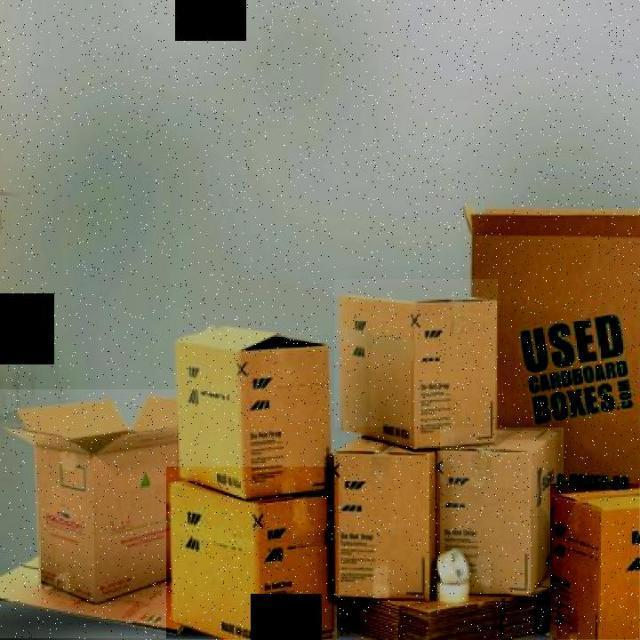box: (461, 195, 638, 489), (0, 390, 177, 638), (170, 308, 332, 502), (166, 466, 339, 640), (334, 279, 498, 449), (434, 428, 564, 604), (320, 427, 440, 609), (550, 484, 639, 640), (332, 594, 556, 640)
